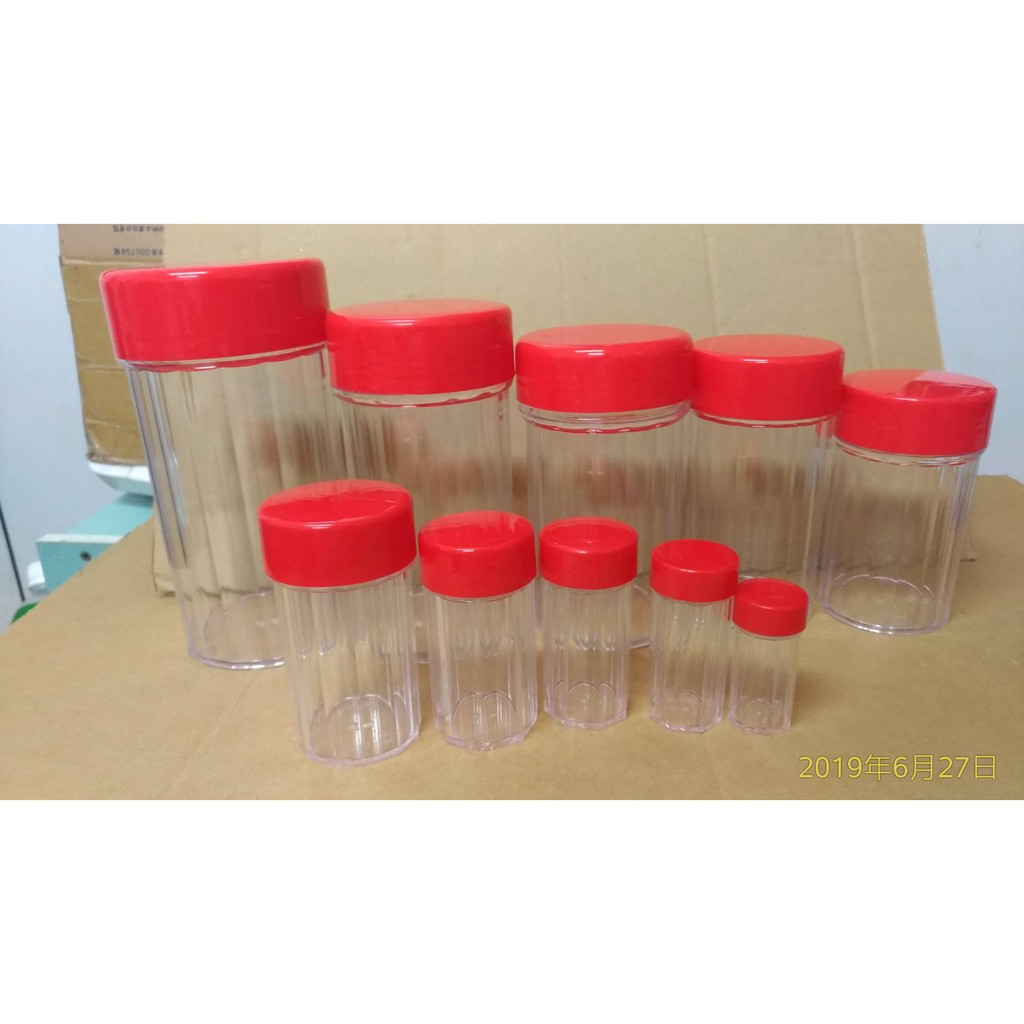medicinejar: (97, 256, 358, 681), (323, 281, 526, 703), (516, 303, 702, 671), (823, 364, 1004, 635), (257, 486, 426, 767), (694, 325, 850, 606), (429, 503, 543, 767), (531, 508, 648, 723), (646, 535, 738, 737), (733, 578, 811, 744)
